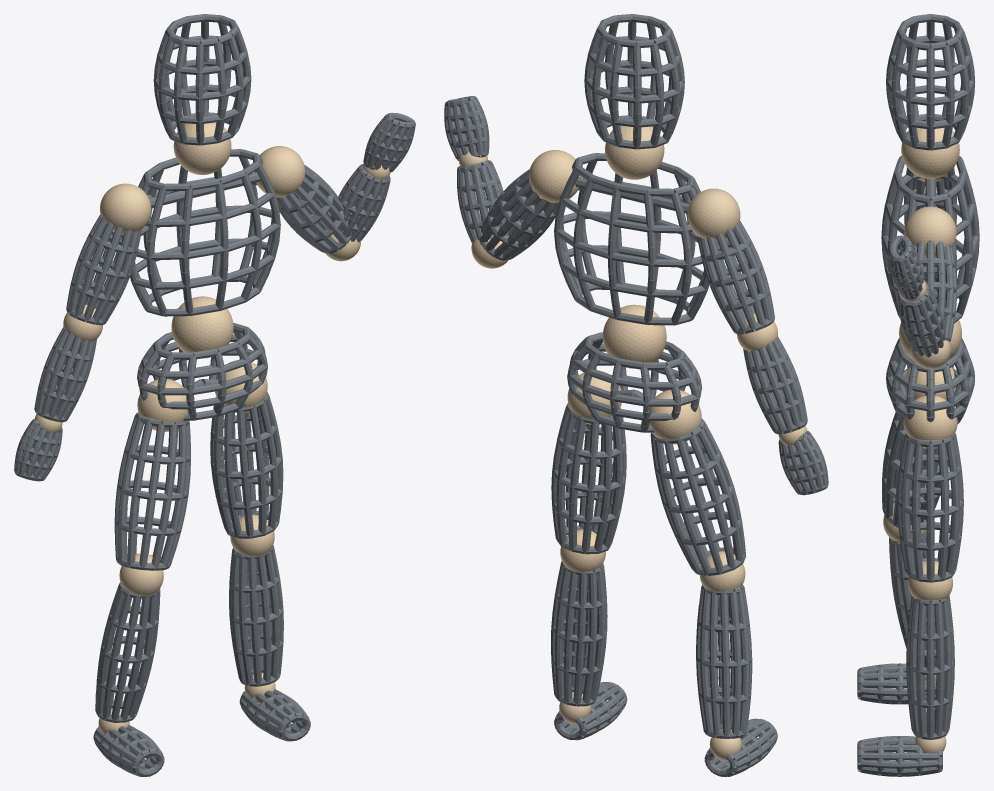
The model's file is artist-mannequin-posed.glb.
The picture shows the model from 3 angles, left to right: view 1: azimuth 30°, elevation 25°; view 2: azimuth 150°, elevation 25°; view 3: azimuth 270°, elevation 25°; orthographic projection. The views are drawn at different scales.
Parts seen in each view (by area): view 1: waist_joint, shoulder-1, neck_joint, shoulder1, hip-1, knee-1, knee1, hip1, elbow-1; view 2: waist_joint, shoulder-1, neck_joint, shoulder1, hip-1, knee1, knee-1, hip1, elbow-1; view 3: neck_joint, shoulder1, hip1, knee1, elbow1, waist_joint, hip-1, ankle1, knee-1.
Part boxes in pixels (bbox=[...]): waist_joint: bbox=[171, 296, 233, 358]; shoulder-1: bbox=[100, 183, 151, 234]; neck_joint: bbox=[173, 122, 231, 174]; shoulder1: bbox=[254, 146, 305, 197]; hip-1: bbox=[137, 379, 188, 431]; knee-1: bbox=[119, 553, 163, 595]; knee1: bbox=[230, 514, 274, 556]; hip1: bbox=[215, 360, 267, 412]; elbow-1: bbox=[63, 304, 103, 342]; waist_joint: bbox=[602, 304, 666, 368]; shoulder-1: bbox=[687, 188, 740, 241]; neck_joint: bbox=[605, 125, 664, 179]; shoulder1: bbox=[529, 150, 581, 202]; hip-1: bbox=[649, 389, 701, 444]; knee1: bbox=[560, 529, 605, 572]; knee-1: bbox=[699, 551, 745, 596]; hip1: bbox=[567, 370, 621, 424]; elbow-1: bbox=[737, 313, 777, 351]; neck_joint: bbox=[901, 120, 959, 178]; shoulder1: bbox=[904, 206, 956, 257]; hip1: bbox=[903, 395, 957, 448]; knee1: bbox=[908, 561, 952, 601]; elbow1: bbox=[910, 339, 950, 369]; waist_joint: bbox=[899, 320, 961, 359]; hip-1: bbox=[904, 367, 956, 399]; ankle1: bbox=[915, 736, 946, 753]; knee-1: bbox=[883, 502, 926, 541].
Size of the model in its own units: 1 by 1.75 by 0.2716.
